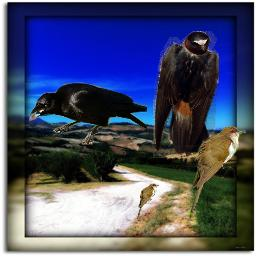Crow: (28, 82, 147, 145)
Cuckoo: (189, 125, 246, 220), (137, 183, 159, 220)
Swallow: (153, 31, 219, 158)
